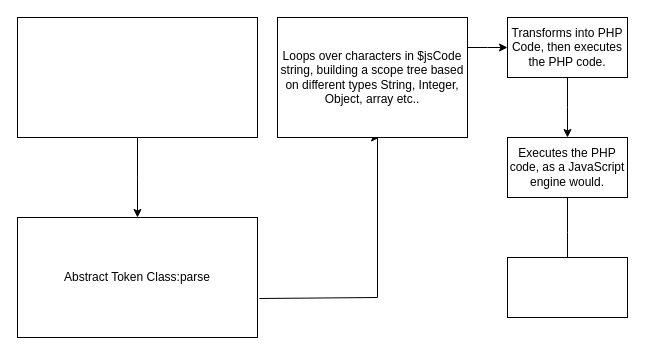
The diagram is 645 pixels wide and 355 high, and some of its shapes have lost their labels. Here are the shapes that lost their labels. From the top down, the centre of each, then its label:
At point (137, 77): "ENTRY POINT PHPJS\Javascript->evaluate($jsCode)".
At point (567, 287): "Script Terminates".
